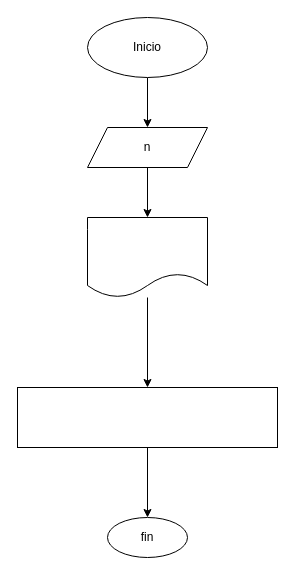
This 295x575 diagram has some shape labels left out. Each missing label, with the box of its shape:
ni= r4*1000 + r3*100 +r2*10 + r1: (16, 386, 278, 448)
r4 = n%10 r3=(n//10)%10 r2 =(n//100)%10 r1=(n//1000)%10: (86, 216, 208, 298)
